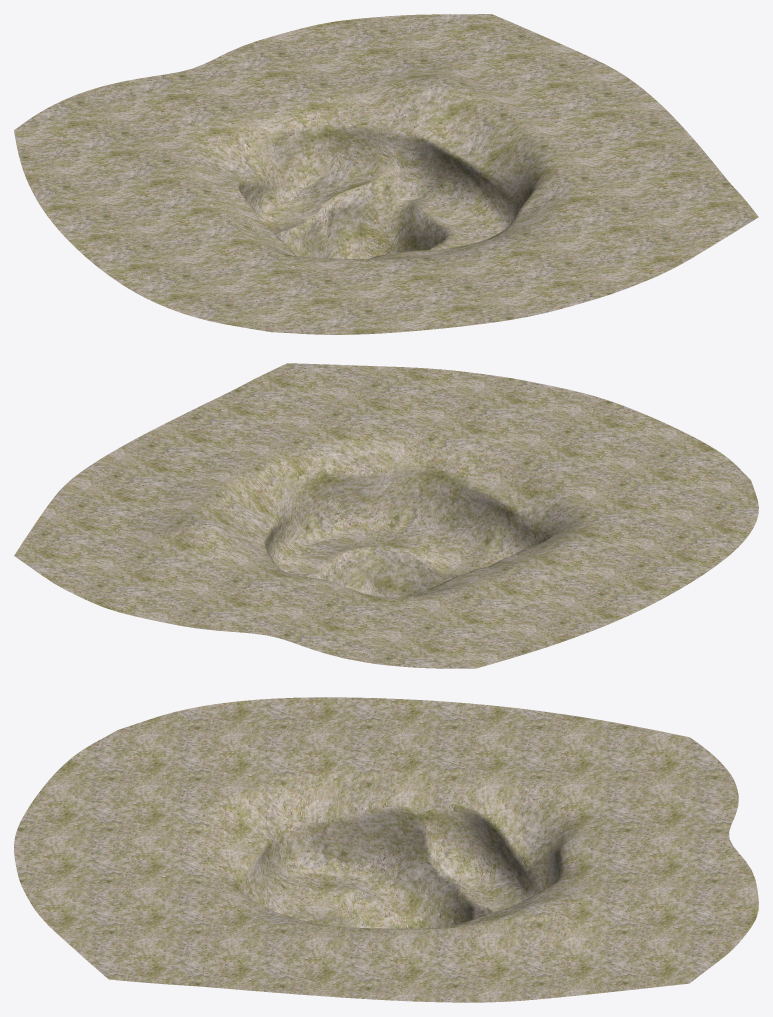
Rendered from terrain.glb.
3 renders of one model, top to bottom at view 1: azimuth 30°, elevation 25°; view 2: azimuth 150°, elevation 25°; view 3: azimuth 270°, elevation 25°, orthographic. The views are drawn at different scales.
Parts seen in each view (by area): view 1: Terrain-col; view 2: Terrain-col; view 3: Terrain-col.
Part boxes in pixels (<box>): Terrain-col: <box>14,14,758,334</box>; Terrain-col: <box>14,363,758,668</box>; Terrain-col: <box>14,697,758,1002</box>.
Size of the model in its own units: 377 by 79.88 by 389.
Materials: 1 (1 with a texture image).
